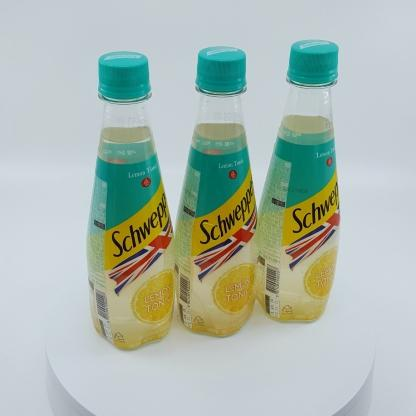-------350ML: (86, 51, 175, 349), (252, 40, 341, 322), (173, 46, 259, 336)
